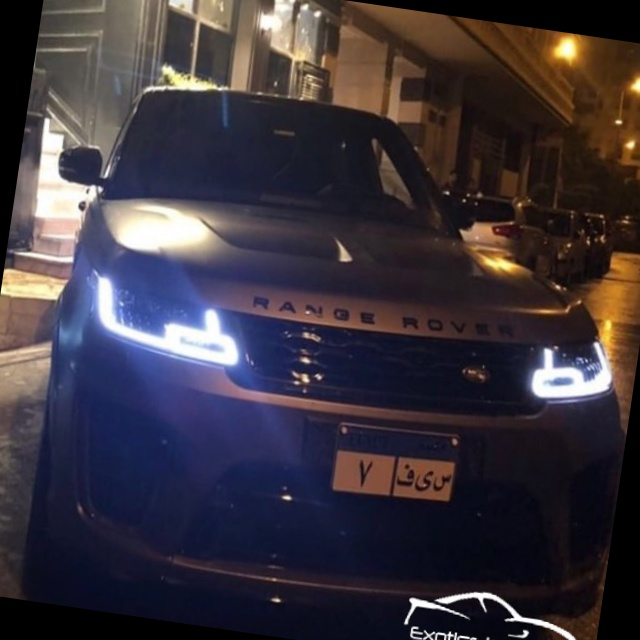License Plate: (327, 415, 464, 512)
